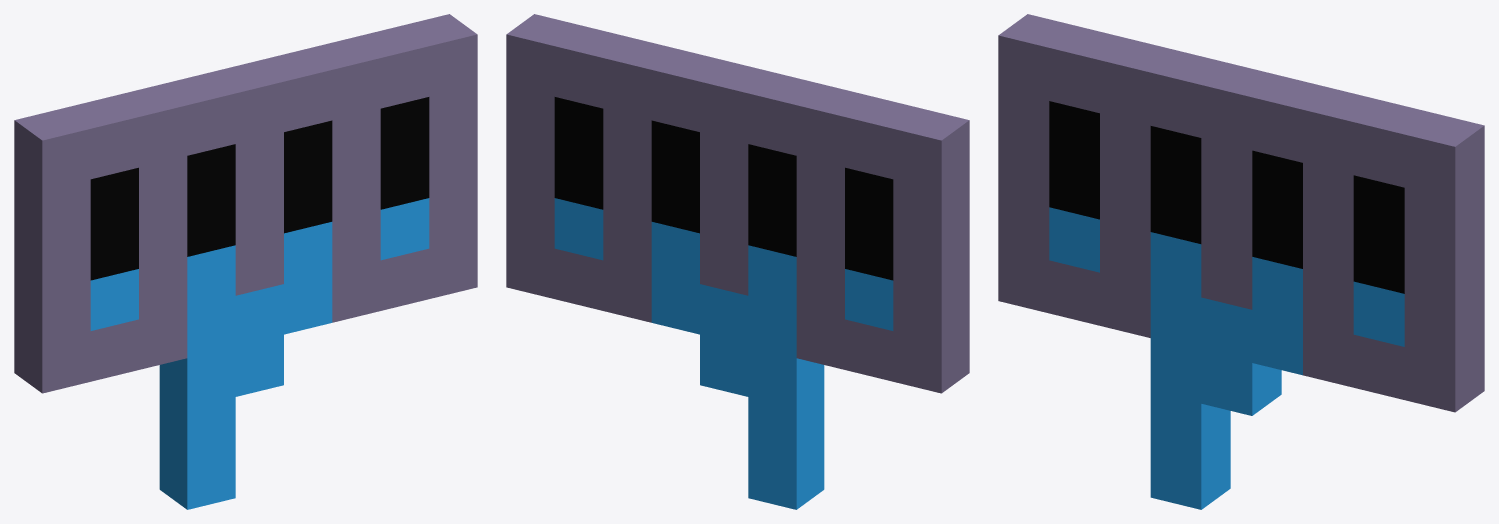
Rendered from wall_grate_a_leaking_water.obj.
The picture shows the model from 3 angles, left to right: view 1: azimuth 30°, elevation 25°; view 2: azimuth 150°, elevation 25°; view 3: azimuth 330°, elevation 25°; orthographic projection. The views are drawn at different scales.
Size of the model in its own units: 0.9 by 0.8 by 0.1.
Materials: 1 (1 with a texture image).
